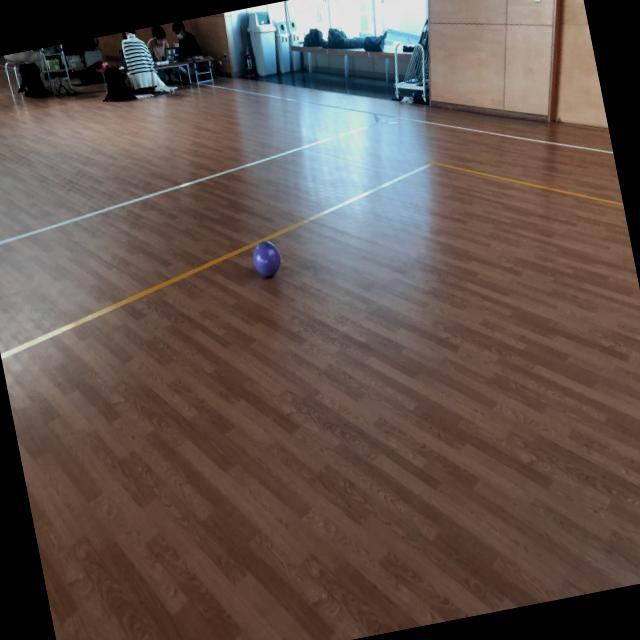purple_ball: (250, 238, 282, 280)
